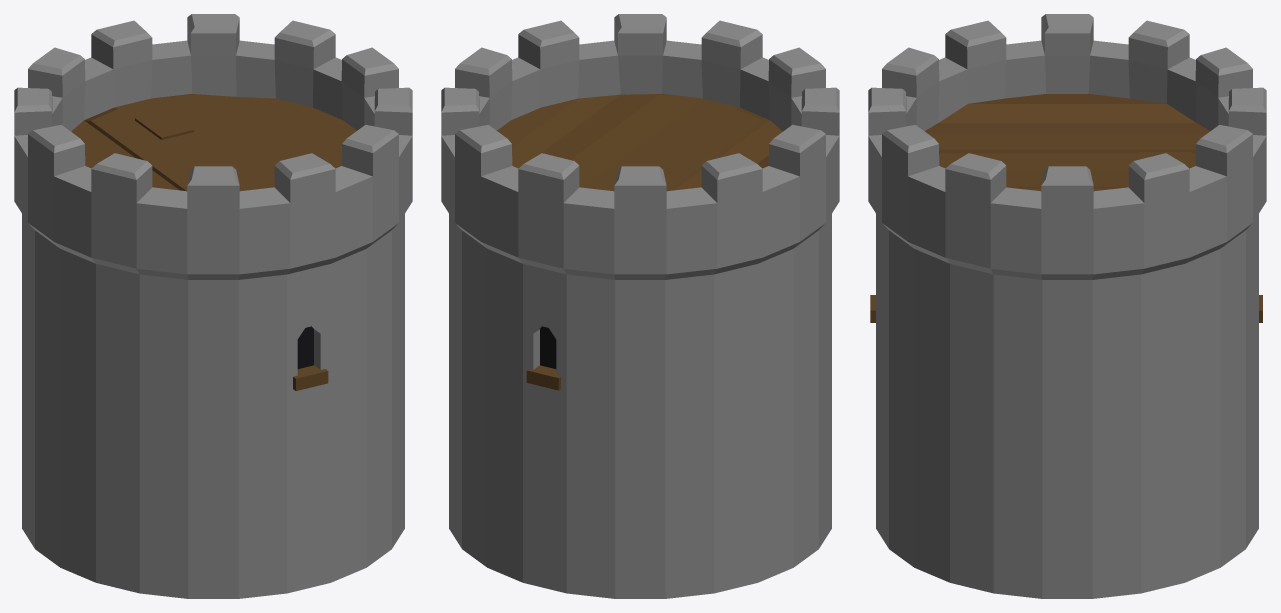
File: battlement.fbx
3 renders of one model, left to right at view 1: azimuth 30°, elevation 25°; view 2: azimuth 150°, elevation 25°; view 3: azimuth 270°, elevation 25°, orthographic.
Visible parts, largest first — view 1: battlement; view 2: battlement; view 3: battlement.
Boxes of the visible parts, left/top/right/bottom form: battlement: left=14, top=14, right=412, bottom=598; battlement: left=441, top=14, right=839, bottom=598; battlement: left=868, top=14, right=1266, bottom=598.
Size of the model in its own units: 818 by 955 by 818.
